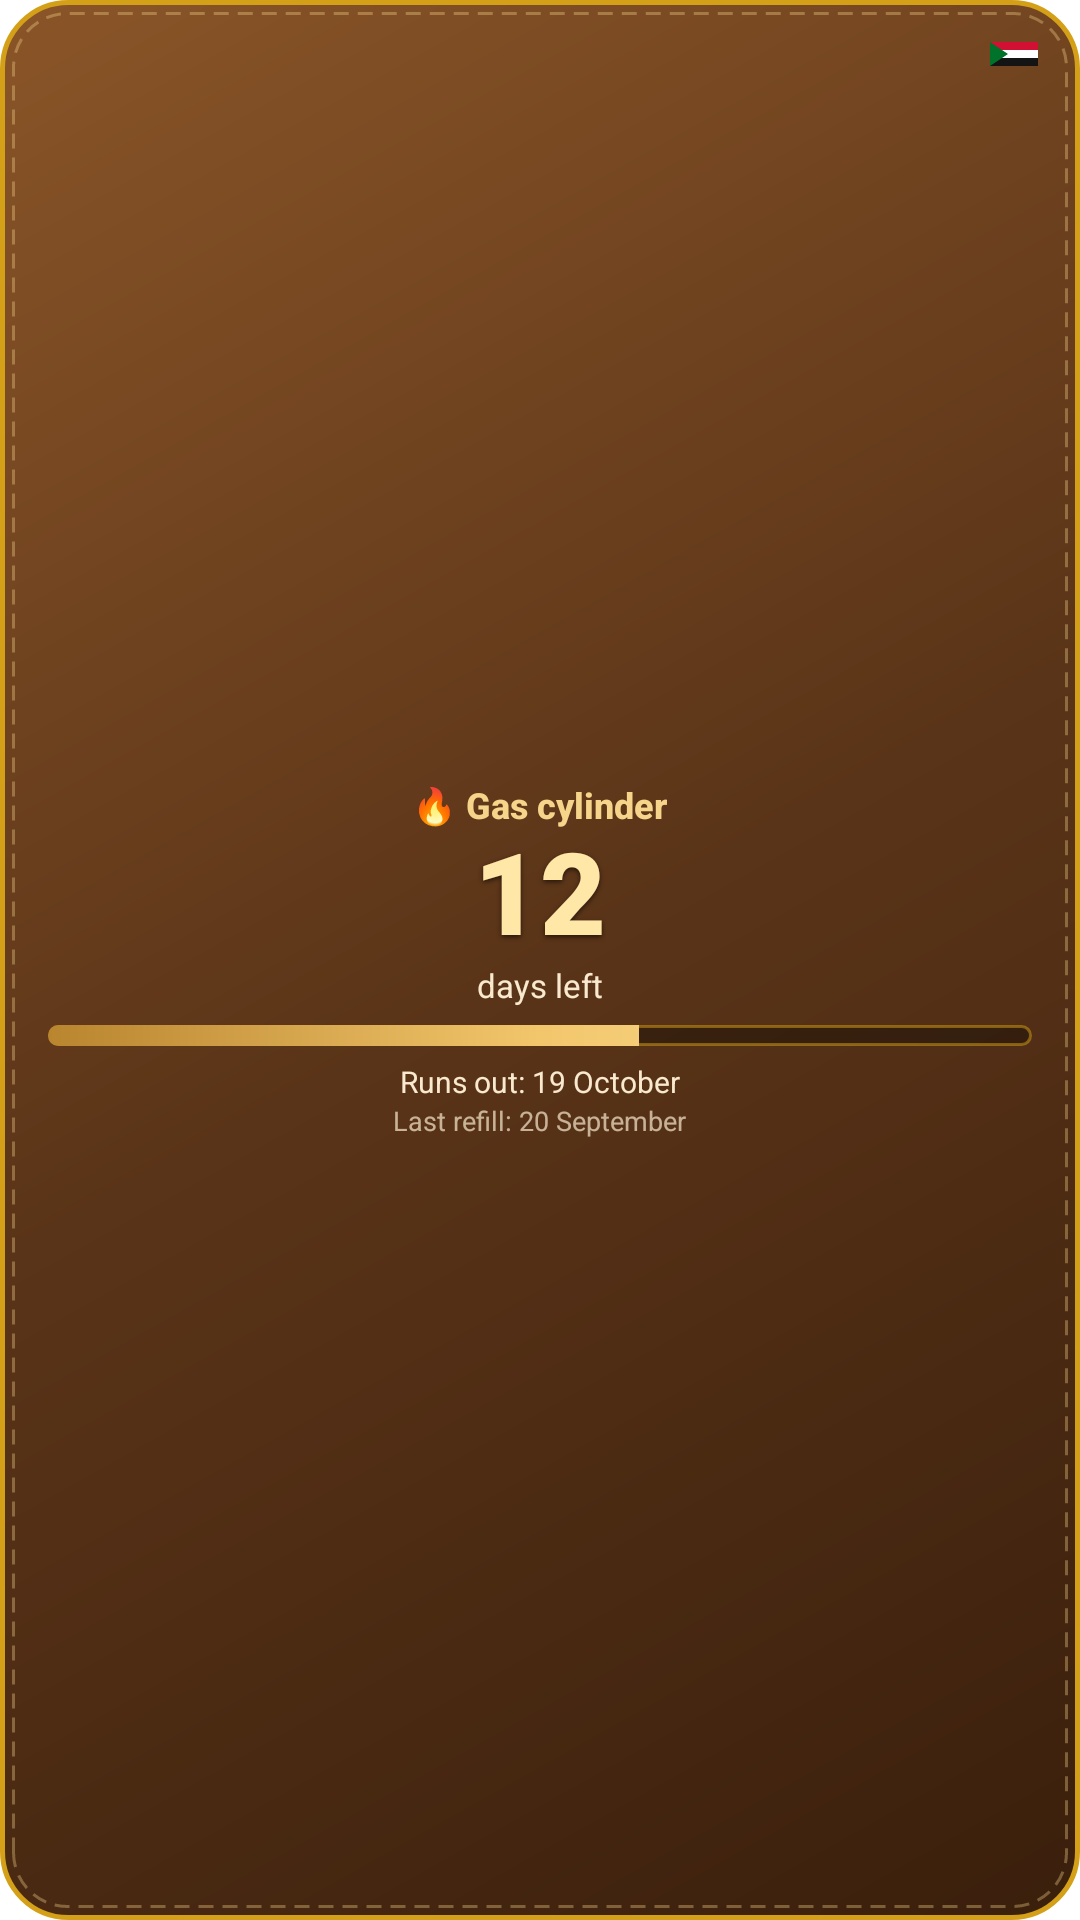

Icons on this 1080px×1920px Android screen, each with its box as (x1, y1, x2, y2):
flag: (990, 42, 1038, 66)
